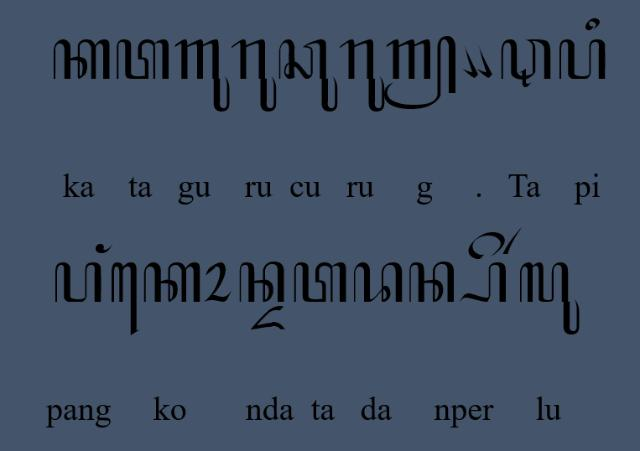-g: (384, 34, 458, 110)
T: (500, 37, 552, 89)
_d: (251, 304, 287, 332)
_r1: (502, 225, 524, 257)
cu: (278, 38, 340, 114)
d: (352, 260, 404, 304)
e: (466, 231, 506, 259)
e1: (110, 260, 140, 338)
gu: (173, 38, 231, 114)
i: (584, 17, 600, 31)
k: (52, 36, 111, 80), (142, 262, 202, 304)
kom: (462, 45, 478, 80), (476, 48, 494, 78)
lu: (518, 262, 582, 336)
n: (408, 259, 456, 304), (238, 262, 286, 302)
ng: (94, 242, 114, 254)
o: (202, 261, 232, 303)
p: (458, 261, 508, 305), (53, 260, 103, 303), (558, 38, 606, 82)
ru: (230, 38, 278, 114), (340, 37, 386, 113)
t: (292, 260, 350, 304), (115, 38, 171, 80)
